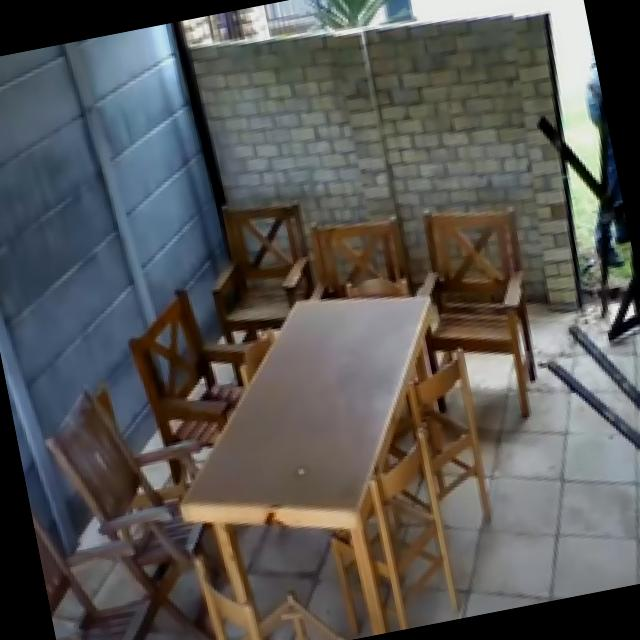person: (560, 56, 635, 270)
